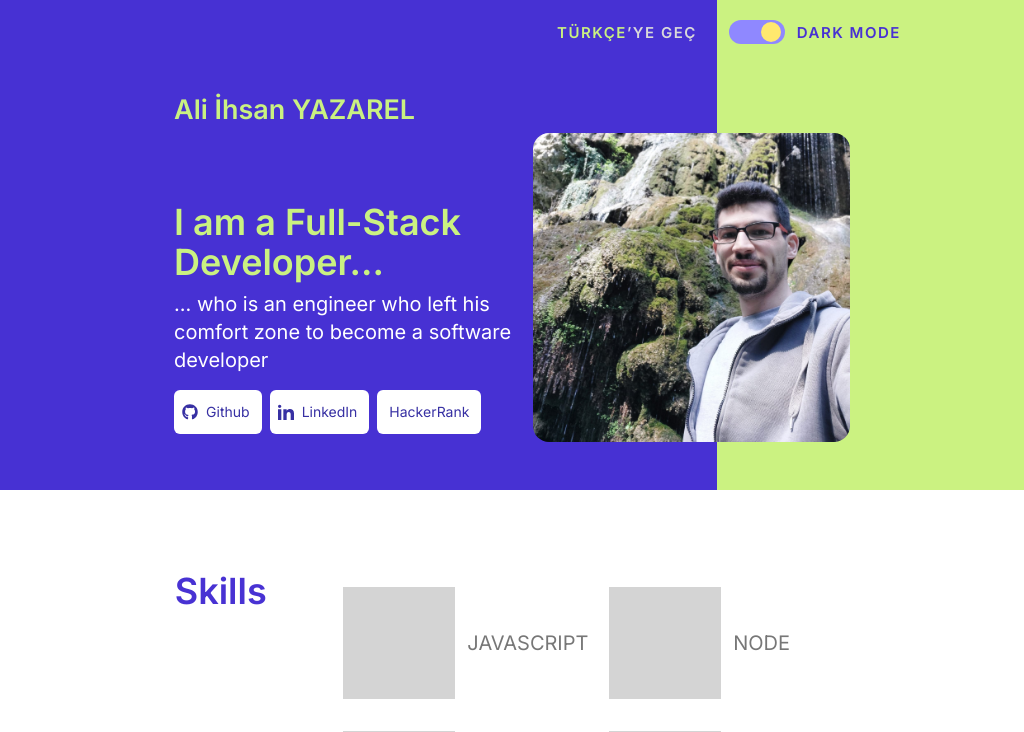
Scenario: example to-do app › dark mode change test
Click the 1st checkbox with class "overflow-hidden". click: click(757, 32)
box: left=729, top=20, right=785, bottom=44
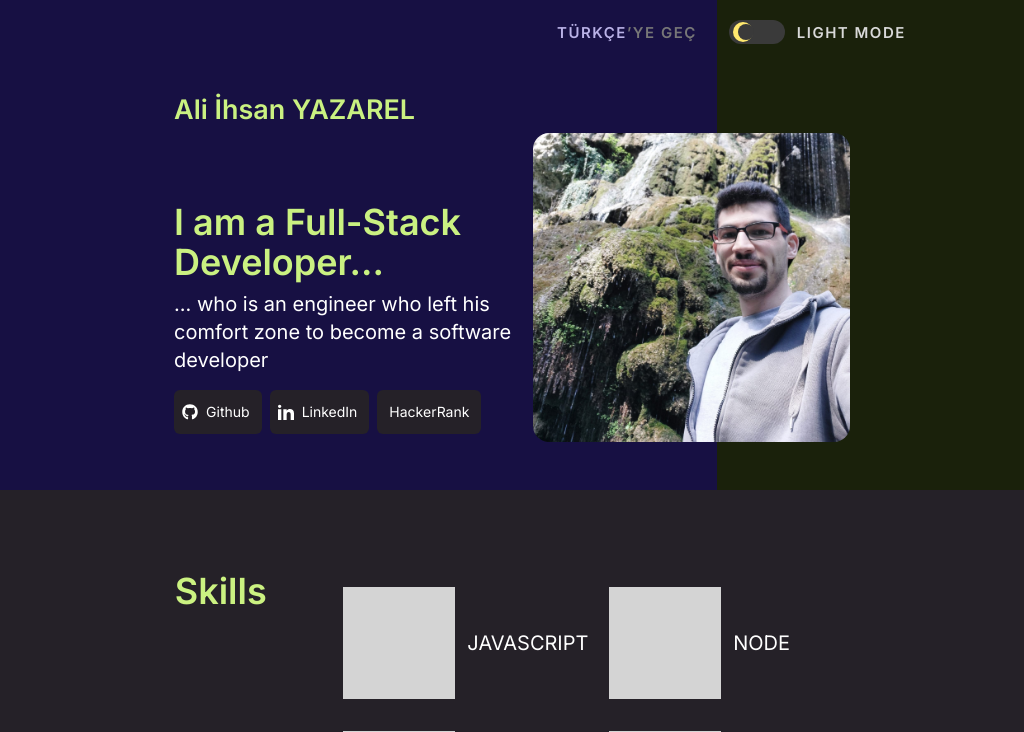
Expected: the text "LIGHT MODE" is shown, left=785, top=20, right=906, bottom=44
